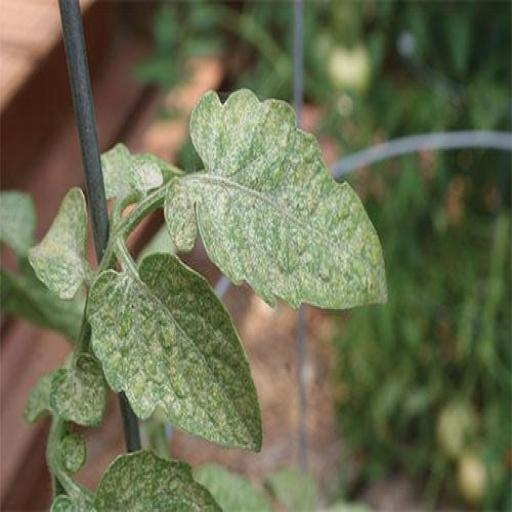Spider Mites: (162, 89, 390, 317), (87, 249, 265, 457)
